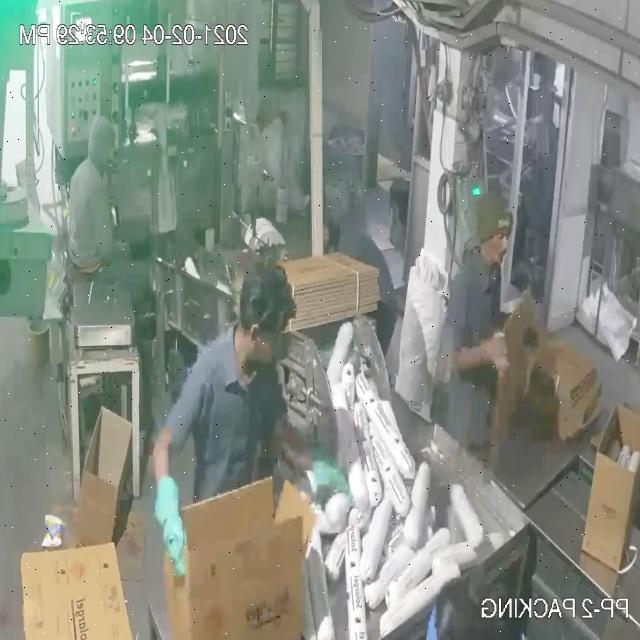Gloves: (156, 476, 189, 576), (310, 460, 348, 492)
No Glove: (484, 332, 508, 375)
No Hardhat: (240, 263, 296, 335), (475, 196, 512, 243)
No Overall Suit: (166, 328, 282, 499), (435, 252, 503, 447)
